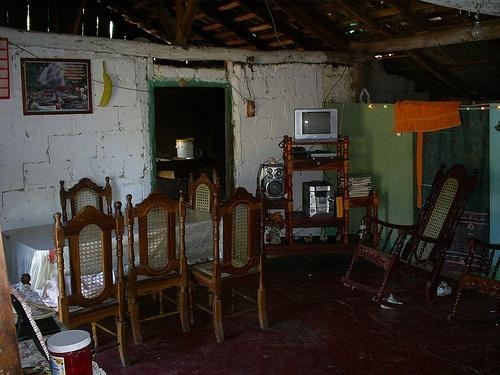chair: (340, 163, 482, 311), (190, 188, 274, 344), (54, 206, 132, 372), (124, 190, 192, 347), (57, 177, 118, 222), (185, 171, 221, 217)
diningtable: (2, 201, 225, 311)
tvmonitor: (294, 109, 341, 142)
